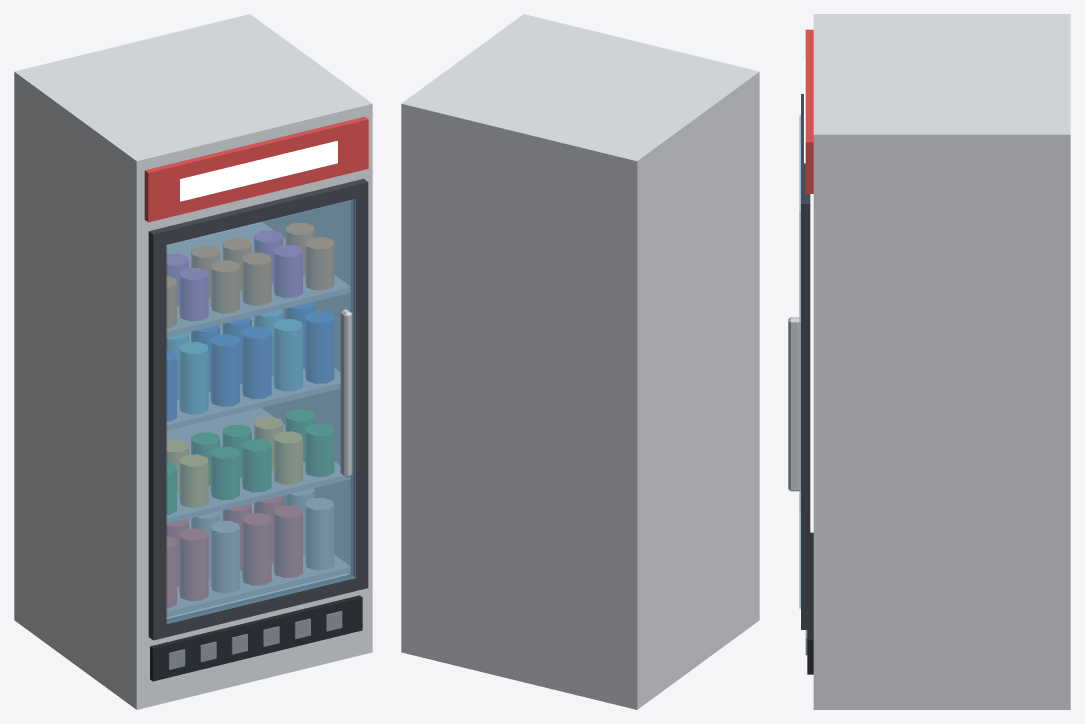
The model's file is drinks_fridge.glb.
The picture shows the model from 3 angles, left to right: view 1: azimuth 30°, elevation 25°; view 2: azimuth 150°, elevation 25°; view 3: azimuth 270°, elevation 25°; orthographic projection. The views are drawn at different scales.
Parts seen in each view (by area): view 1: drinks_fridge; view 2: drinks_fridge; view 3: drinks_fridge.
Boxes of the visible parts, bbox=[...] form: drinks_fridge: bbox=[14, 14, 372, 709]; drinks_fridge: bbox=[401, 14, 759, 709]; drinks_fridge: bbox=[788, 14, 1070, 709].
Bounding box in the file's own units: 0.9 × 2 × 0.89.
